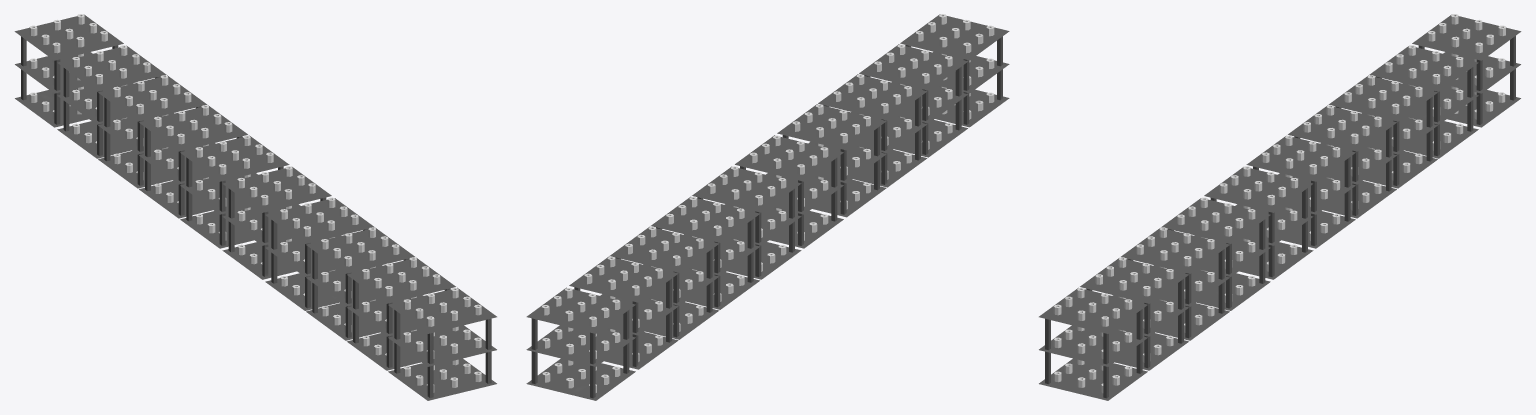
The model's file is EstanteRollo.obj.
The picture shows the model from 3 angles, left to right: view 1: azimuth 30°, elevation 25°; view 2: azimuth 150°, elevation 25°; view 3: azimuth 330°, elevation 25°; orthographic projection.
Visible parts, largest first — view 1: EstanteRollos; view 2: EstanteRollos; view 3: EstanteRollos.
Boxes of the visible parts, bbox=[...] form: EstanteRollos: bbox=[14, 14, 496, 400]; EstanteRollos: bbox=[526, 14, 1009, 400]; EstanteRollos: bbox=[1039, 14, 1521, 400].
Bounding box in the file's own units: 2 × 2.03 × 20.52.
